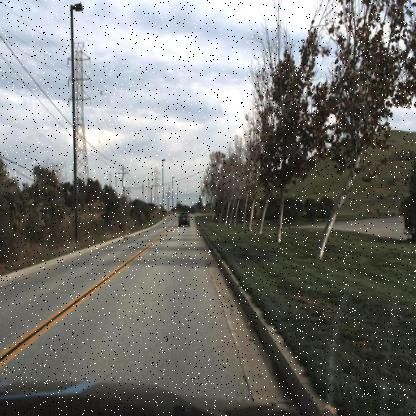car: (175, 207, 194, 234)
